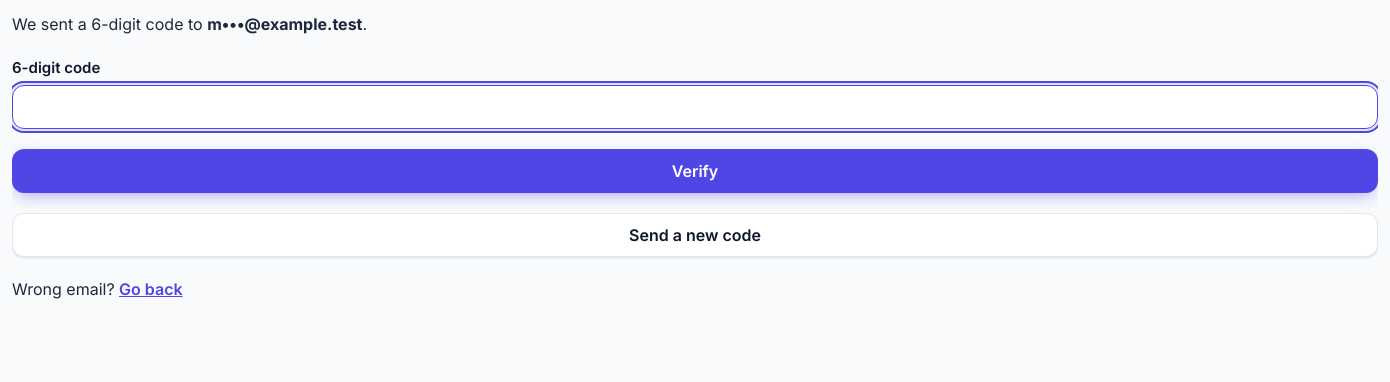
VerifyForm › disables verify while locked and explains when to retry
Type "123456" into the field with test id "verify-code-input" at x=695, y=107, box [12,85,1378,129]
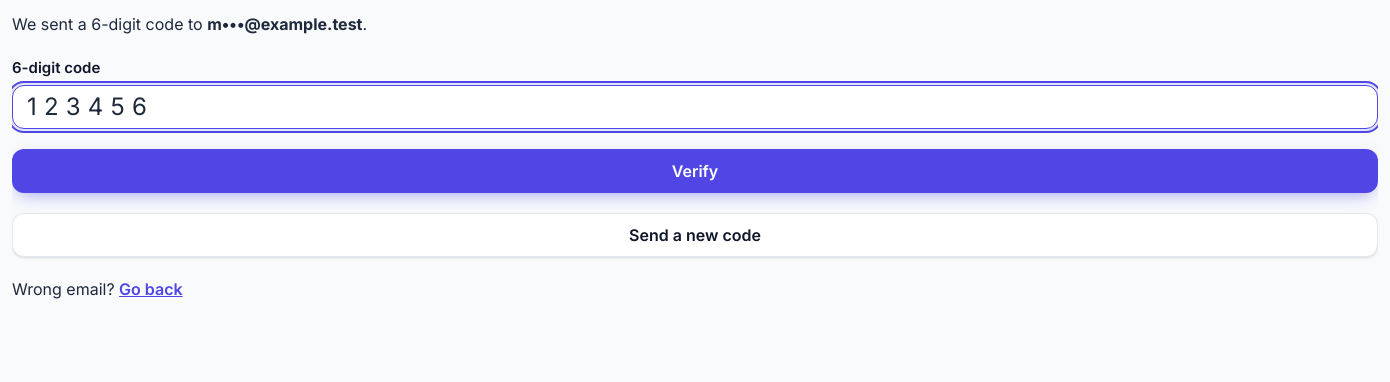
Click the button with test id "verify-submit-button" at x=695, y=171, box [12,149,1378,193]
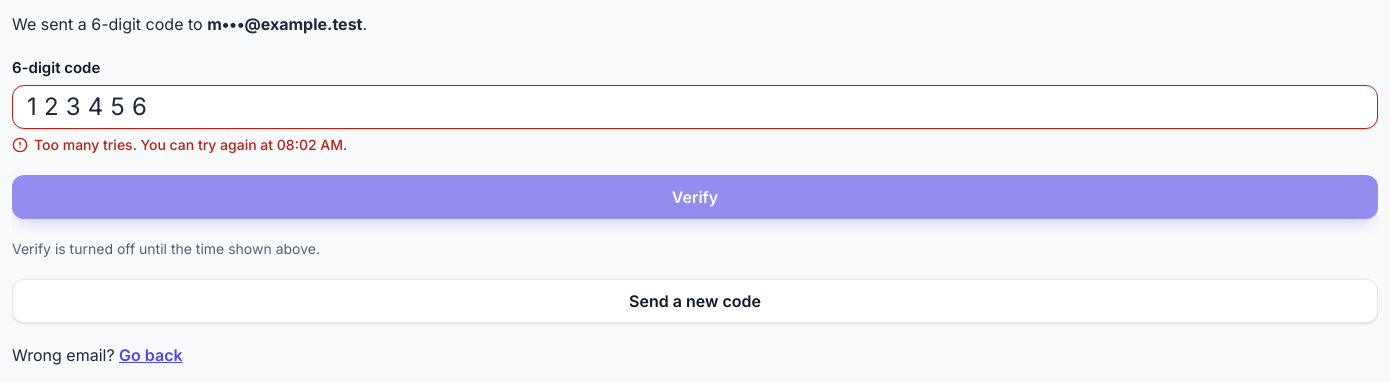
expect the text "Verify is turned off until the time shown above." is shown: met, box [12,240,320,257]
expect the button with test id "verify-submit-button" is disabled: met, box [12,175,1378,219]
expect the element with test id "code-error" shows "Too many tries. You can try again at": met, box [34,136,347,153]
